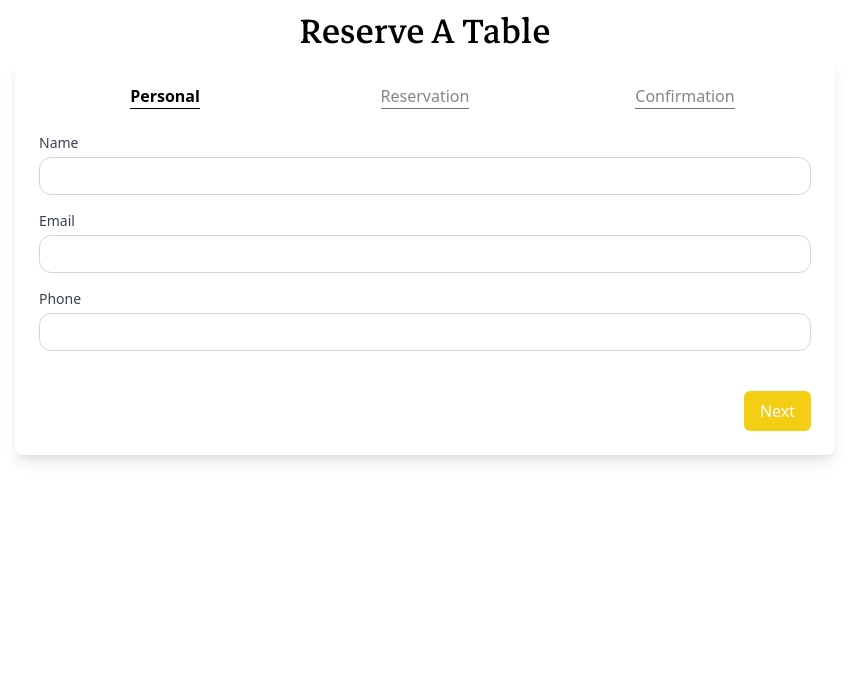
Test: ReservePage › shows back button on non-first steps
Expected: the text "Back" is not shown
Note: Go to second step
Click the button "Reservation" at (425, 96), box left=381, top=84, right=470, bottom=109
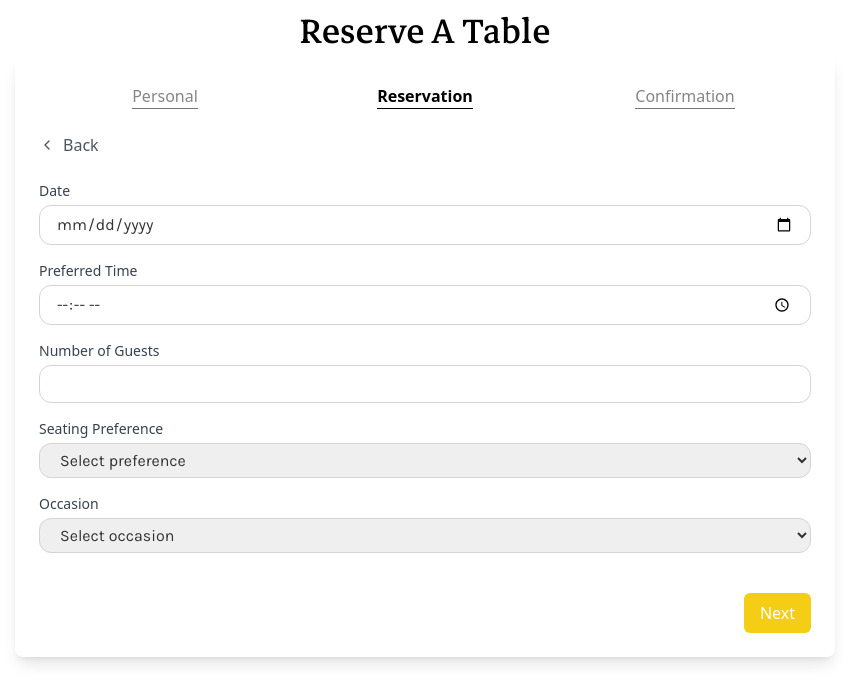
Expected: the button "Back" is shown, left=39, top=133, right=99, bottom=157
